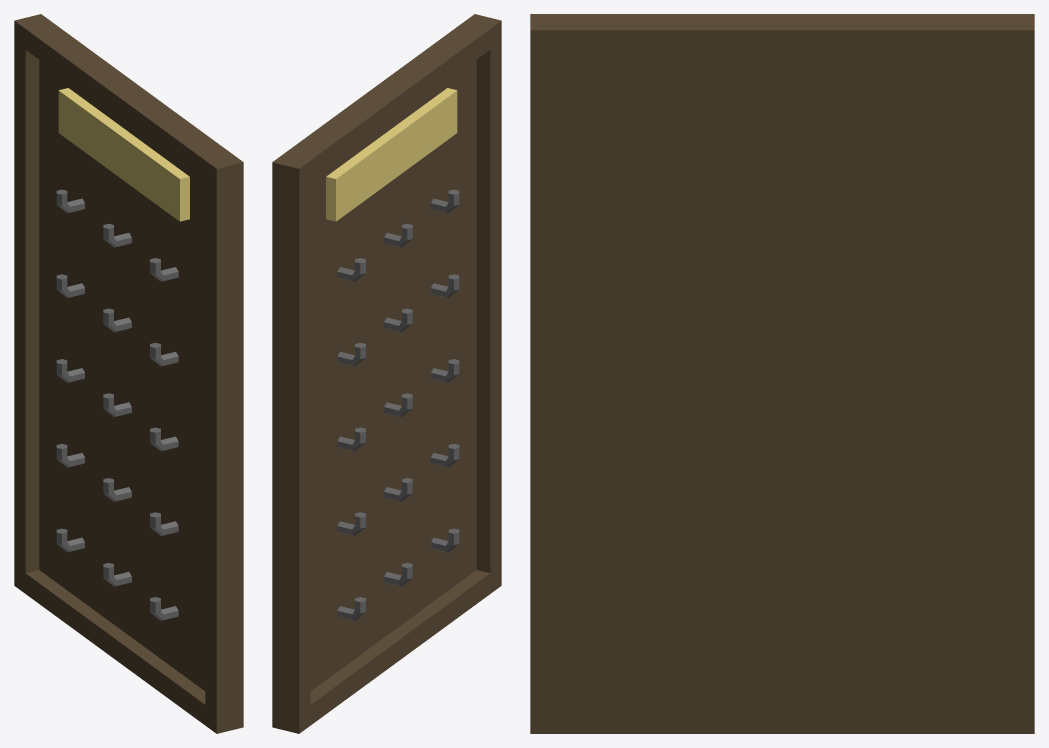
The model's file is KeyHooks.fbx.
3 renders of one model, left to right at view 1: azimuth 30°, elevation 25°; view 2: azimuth 150°, elevation 25°; view 3: azimuth 270°, elevation 25°, orthographic. The views are drawn at different scales.
Visible parts, largest first — view 1: Keyhooks; view 2: Keyhooks; view 3: Keyhooks.
Part boxes in pixels (x1,y1,x2,y2): Keyhooks: (14, 14, 243, 733); Keyhooks: (272, 14, 501, 733); Keyhooks: (530, 14, 1034, 733).
Size of the model in its own units: 7.25 by 100 by 65.
